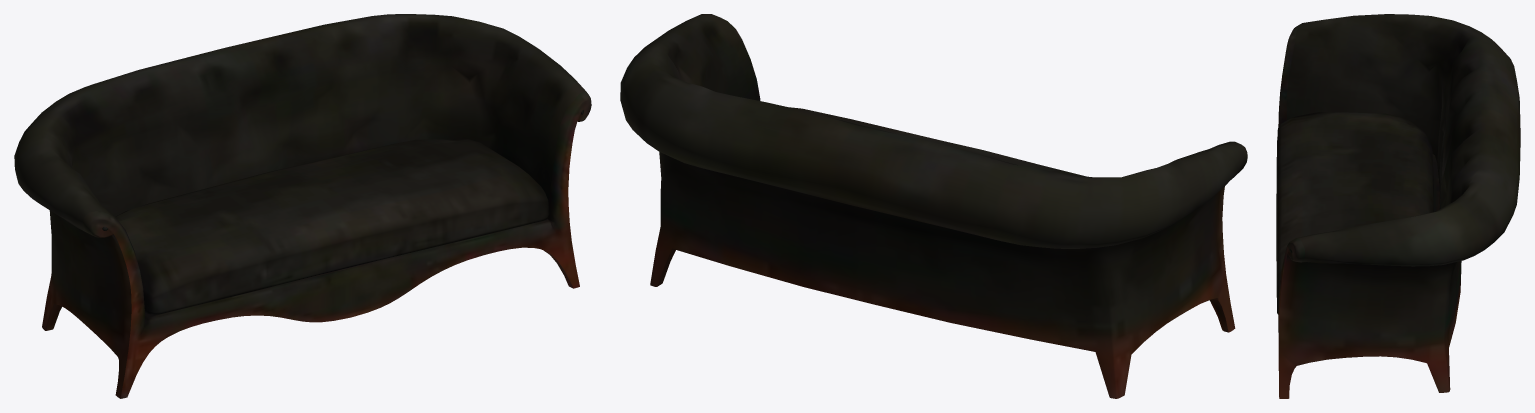
File: sofa.glb
3 renders of one model, left to right at view 1: azimuth 30°, elevation 25°; view 2: azimuth 150°, elevation 25°; view 3: azimuth 270°, elevation 25°, orthographic. The views are drawn at different scales.
Visible parts, largest first — view 1: sofa_02_Base, sofa_02_Seat; view 2: sofa_02_Base, sofa_02_Seat; view 3: sofa_02_Base, sofa_02_Seat.
Part boxes in pixels (x1,y1,x2,y2): sofa_02_Base: (14, 14, 591, 398); sofa_02_Seat: (115, 139, 549, 314); sofa_02_Base: (620, 14, 1247, 398); sofa_02_Seat: (789, 107, 1086, 176); sofa_02_Base: (1278, 14, 1520, 398); sofa_02_Seat: (1276, 112, 1433, 314).
Bounding box in the file's own units: 1.81 × 0.7095 × 0.8178.
1 material, 1 textured.
